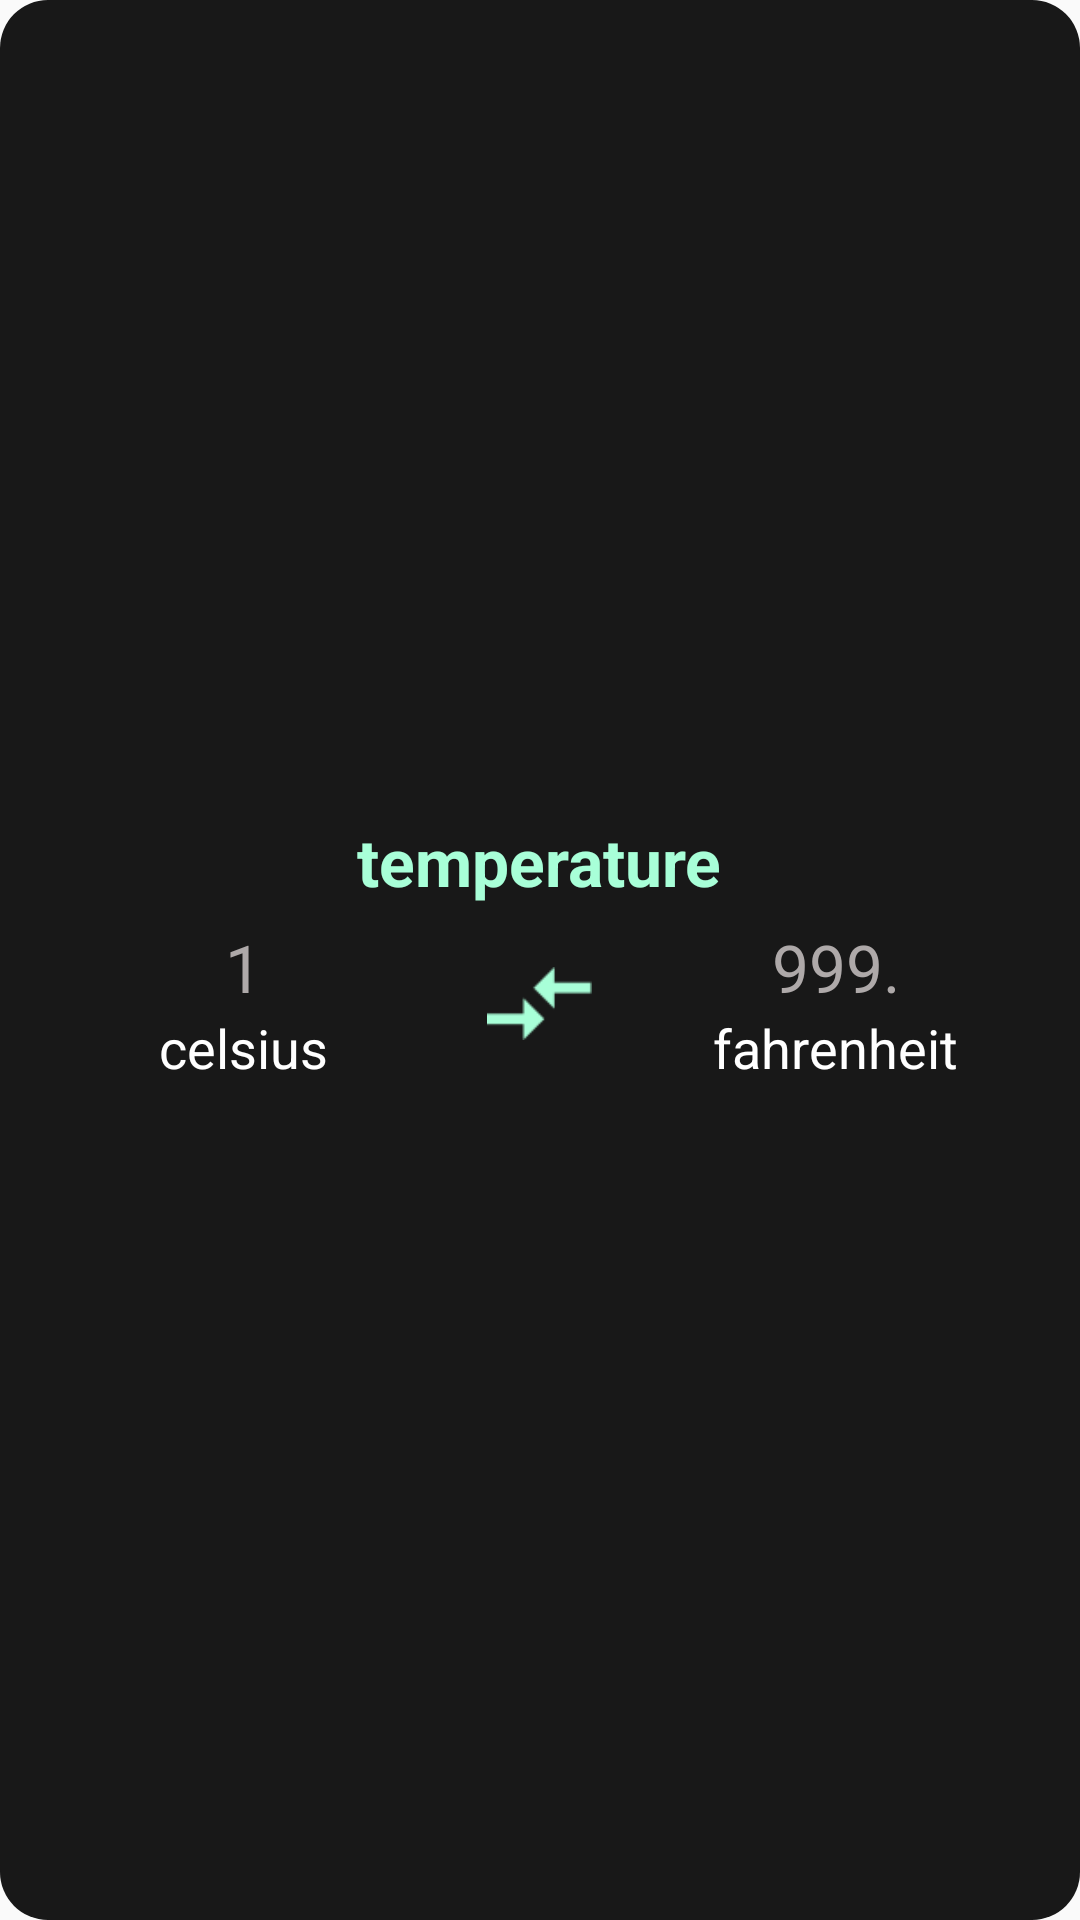

Icon click points for this 1080×1920 phone screenshot, format (x=x, y=y):
convert arrow: (x=539, y=1003)
